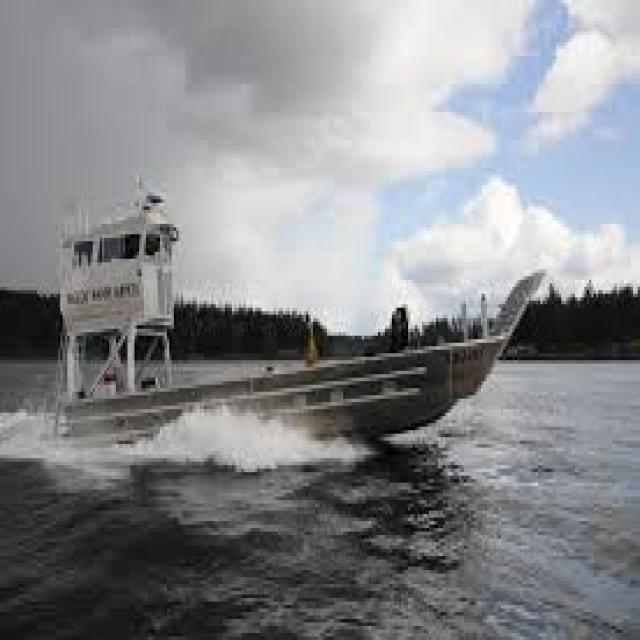houseboat: (52, 187, 550, 456)
